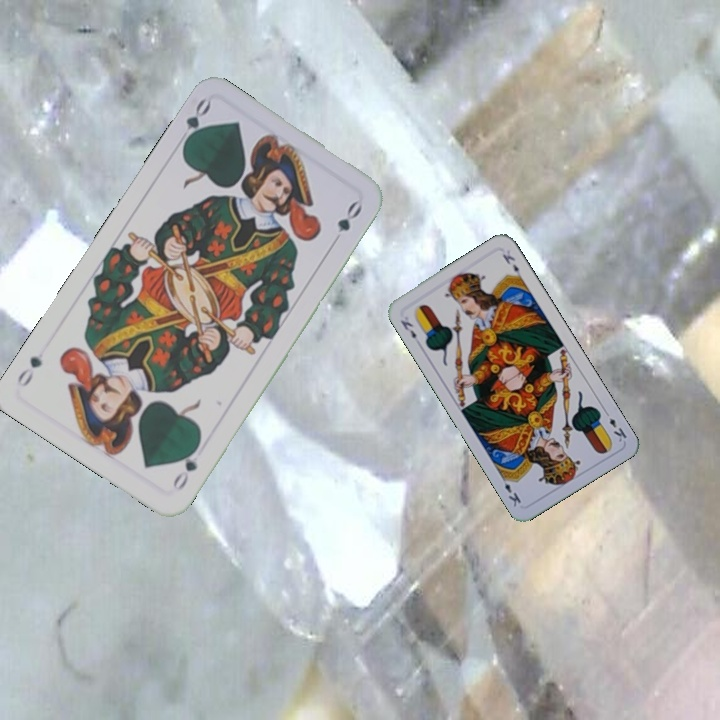EK: (600, 406, 630, 445), (396, 316, 419, 341)
GO: (172, 95, 214, 151), (168, 440, 202, 494)
